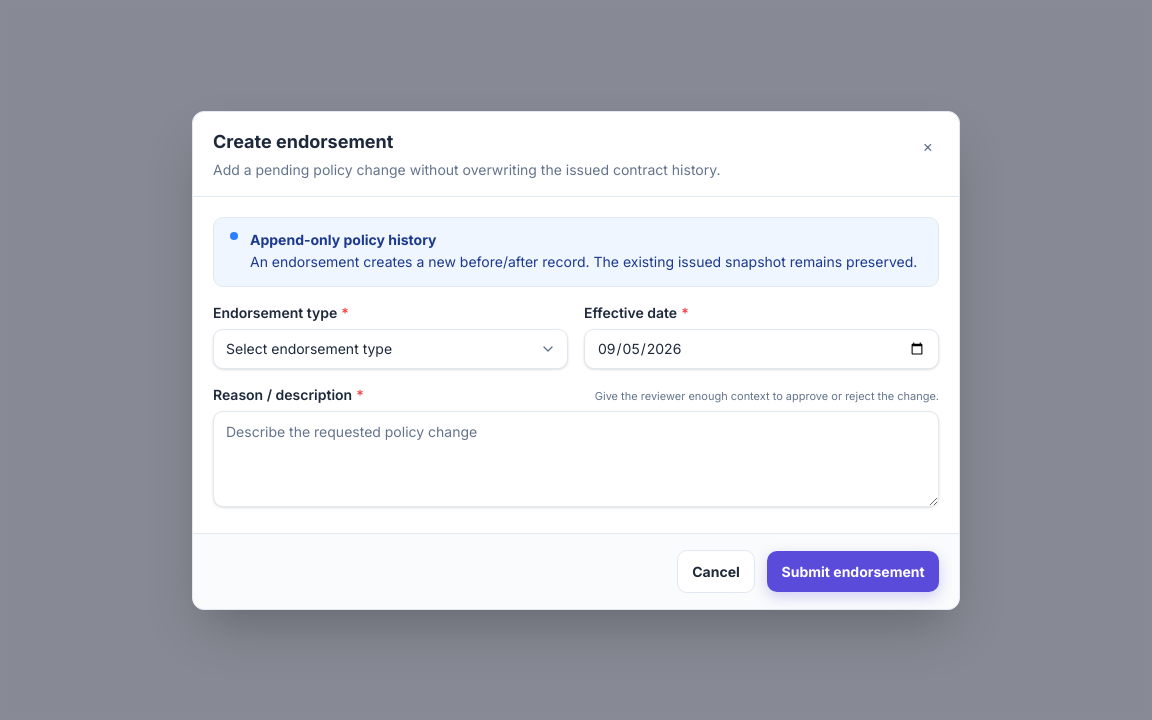
Test: PolicyEndorsementModal › shows teachable inline validation before submitting an incomplete request
Click the button "Submit endorsement" at (853, 571), box [767,550,939,592]
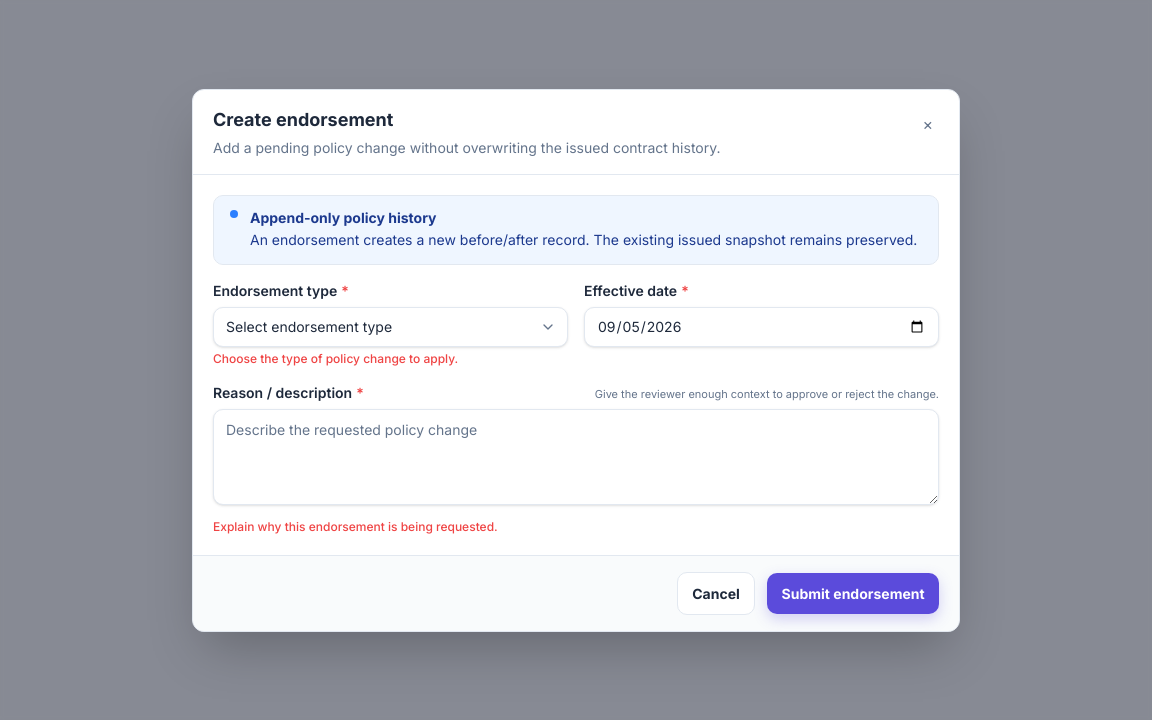
Check: the text "Choose the type of policy change to apply." is shown, box [213,350,458,366]
Check: the text "Explain why this endorsement is being requested." is shown, box [213,518,498,534]
